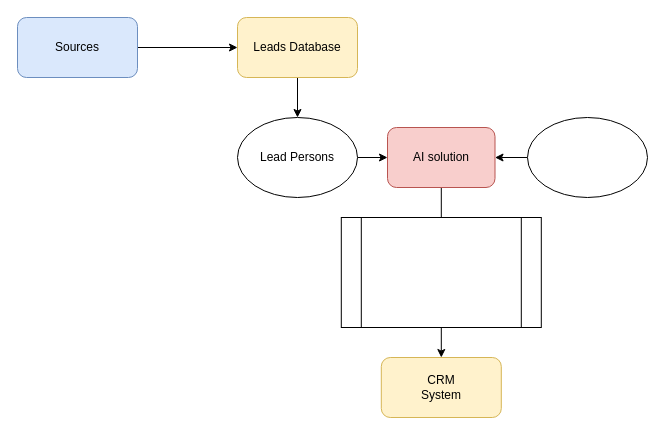
The diagram is 665 pixels wide and 435 high, and some of its shapes have lost their labels. Each missing label, with the box of its shape:
Add People Add Opportunities Add Tasks Assign. Tasks to Reps: (340, 216, 541, 328)
Sales Reps CRM: (526, 116, 648, 198)
